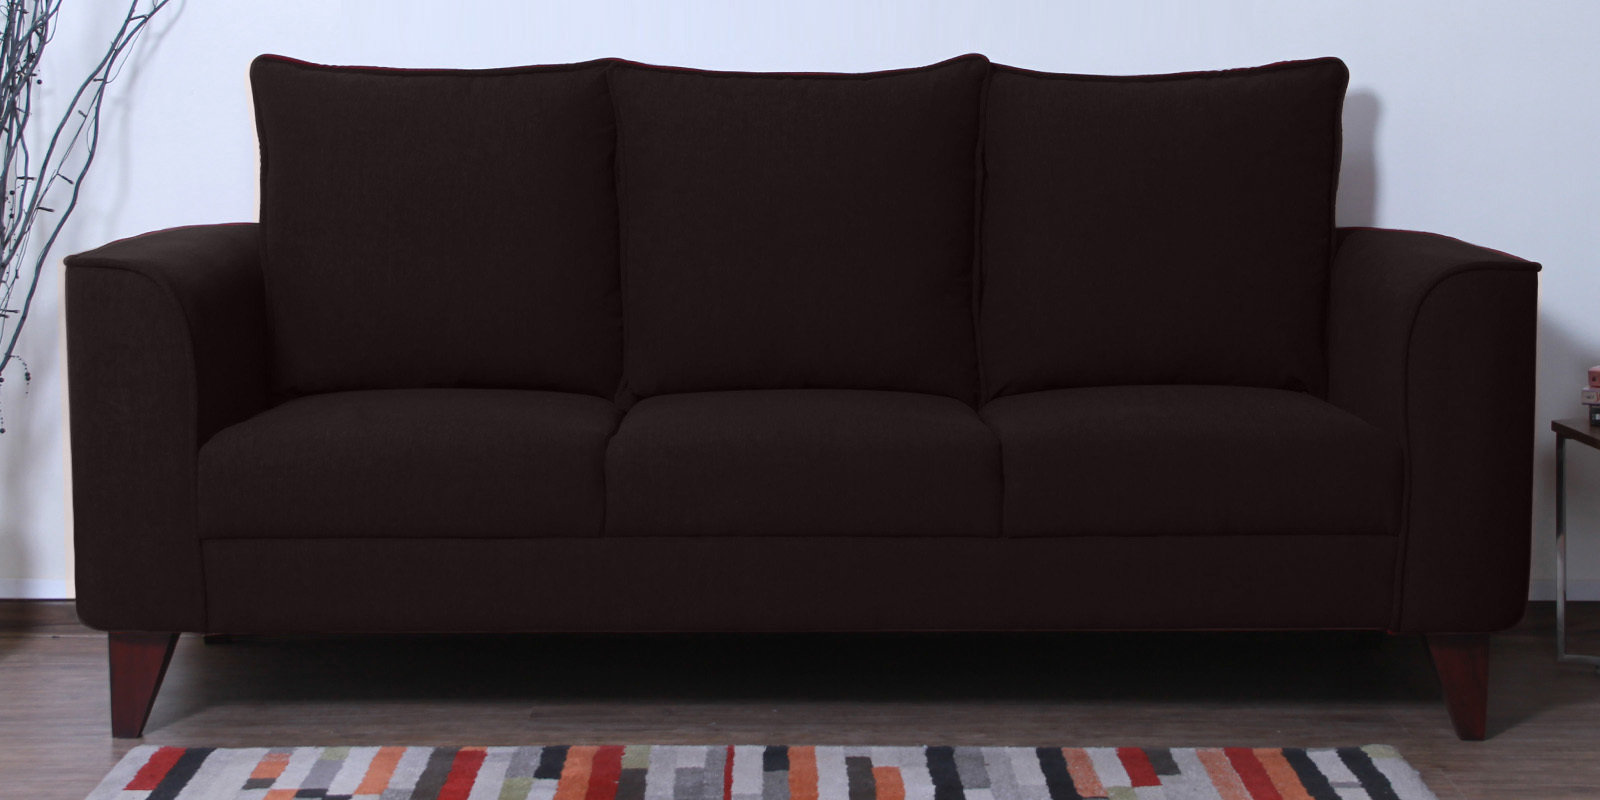Lara Three Seater Sofa in Chestnut Brown Colour by CasaCraft: (62, 50, 1546, 741)
